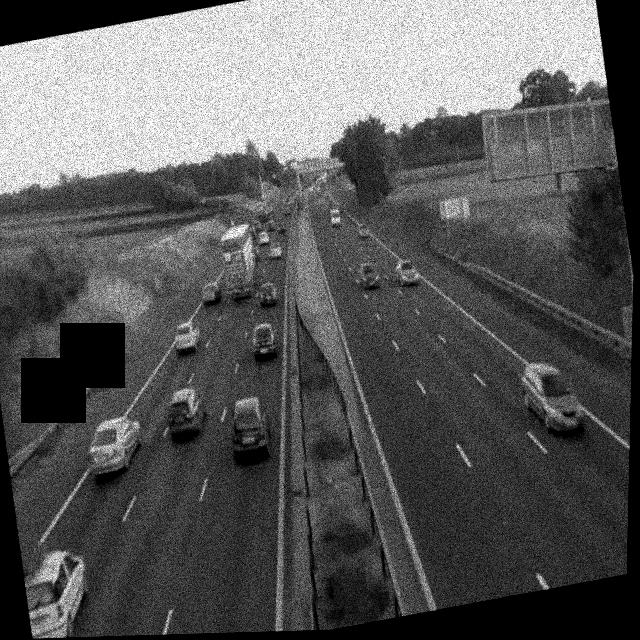car: (20, 546, 96, 639), (517, 354, 587, 439), (82, 412, 146, 477), (226, 396, 275, 463), (162, 384, 210, 440), (250, 320, 281, 358), (172, 319, 204, 354), (395, 256, 422, 288), (357, 261, 380, 292), (201, 280, 222, 306), (258, 281, 279, 307), (268, 239, 282, 258), (257, 229, 271, 248), (357, 223, 369, 239), (277, 220, 287, 235), (284, 200, 294, 213)
truck: (214, 220, 262, 301)
